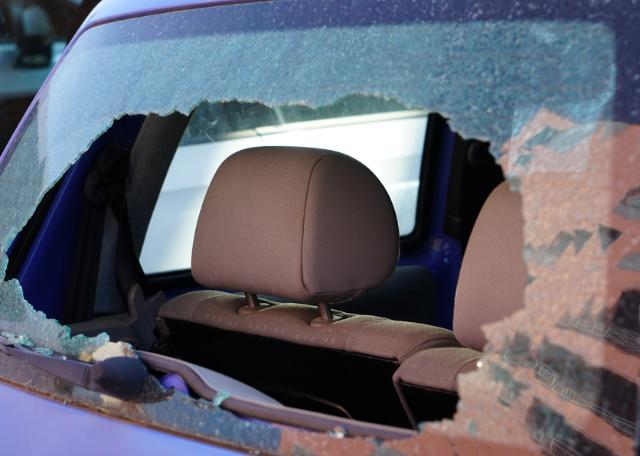Windshield: (0, 0, 640, 451)
